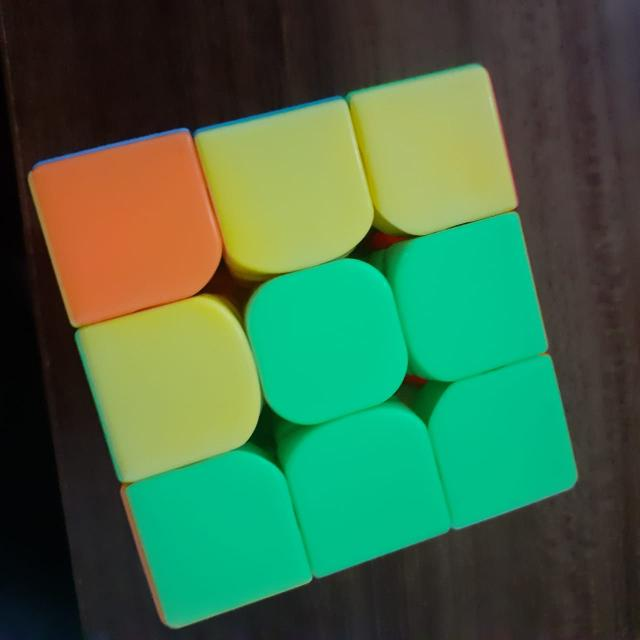Green: (134, 466, 278, 632), (290, 424, 430, 574), (254, 284, 401, 406), (445, 386, 557, 528), (406, 244, 540, 362)
Orange: (36, 139, 212, 301)
Yellow: (74, 315, 242, 459), (364, 70, 504, 226), (218, 113, 356, 265)
